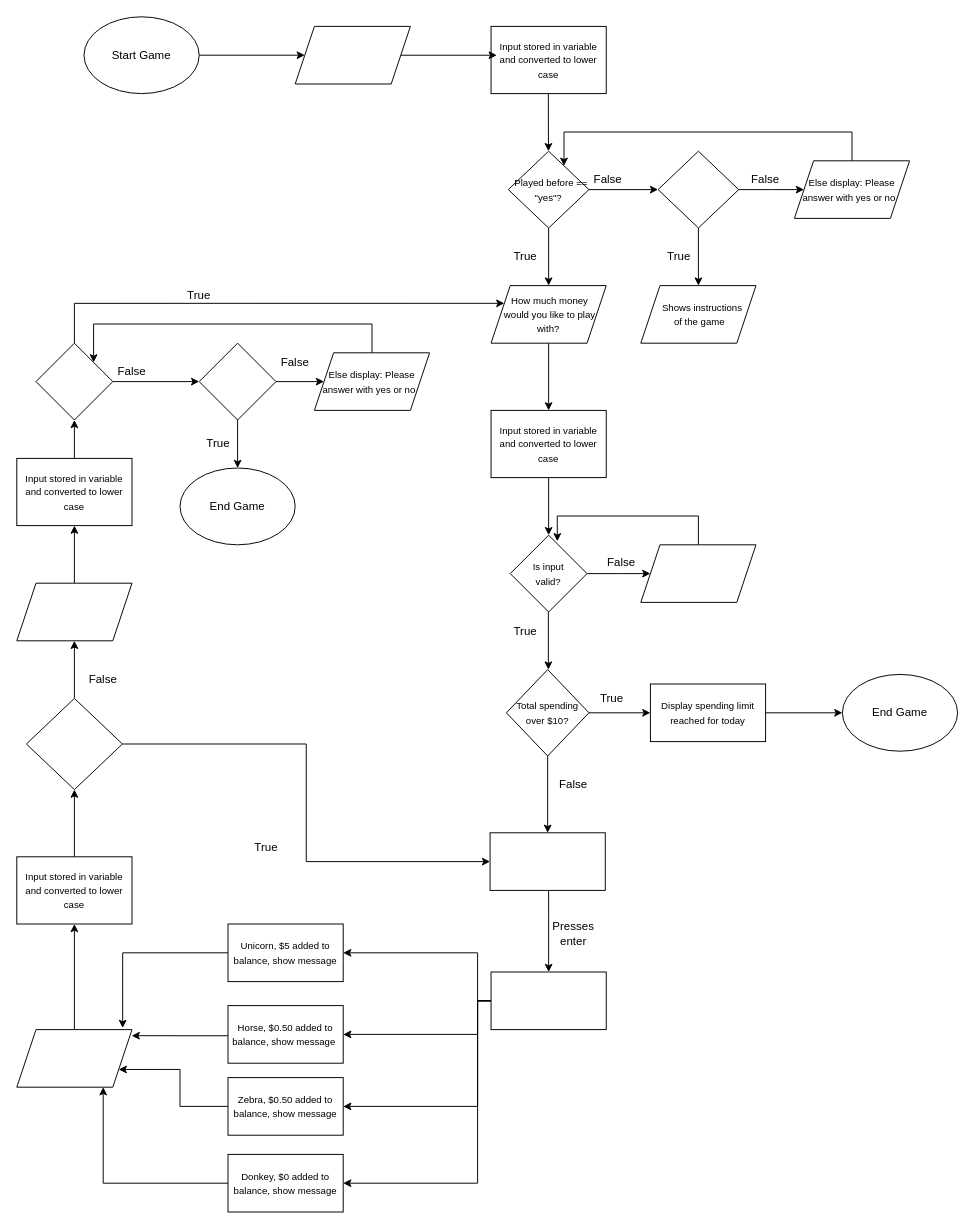
This 974x1229 diagram has some shape labels left out. Here are the shapes that lost their labels. From the top down, the box of each, then its label:
(294, 25, 410, 84): Have you played this game before?
(657, 150, 739, 228): Played before == "no"?
(35, 342, 113, 420): response == "yes"?
(198, 342, 276, 420): response == "no"?
(640, 544, 756, 602): Error, please try again with an amount between $1 - $10
(16, 582, 132, 641): Insufficient balance, update balance?
(25, 697, 122, 790): Balance greater than/equal to $1
(489, 832, 605, 890): Game Runs
(490, 971, 606, 1030): Random token generated and $1 taken away from balance
(16, 1029, 132, 1087): Keep Playing?
